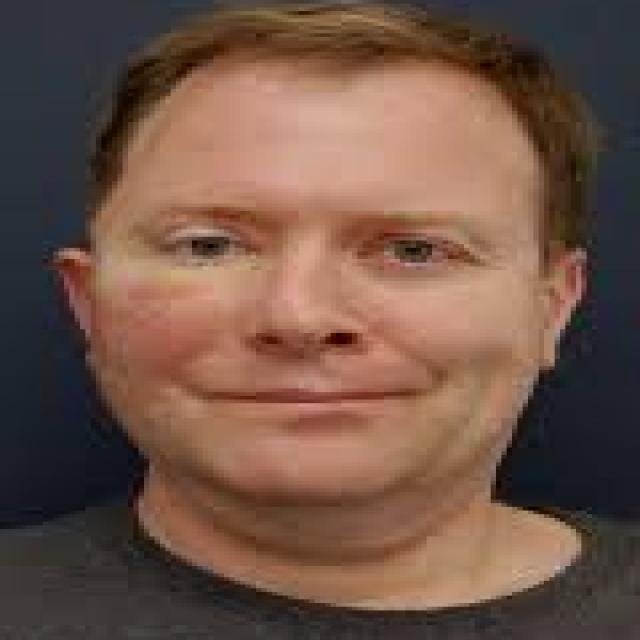normal_face: (96, 70, 521, 517)
